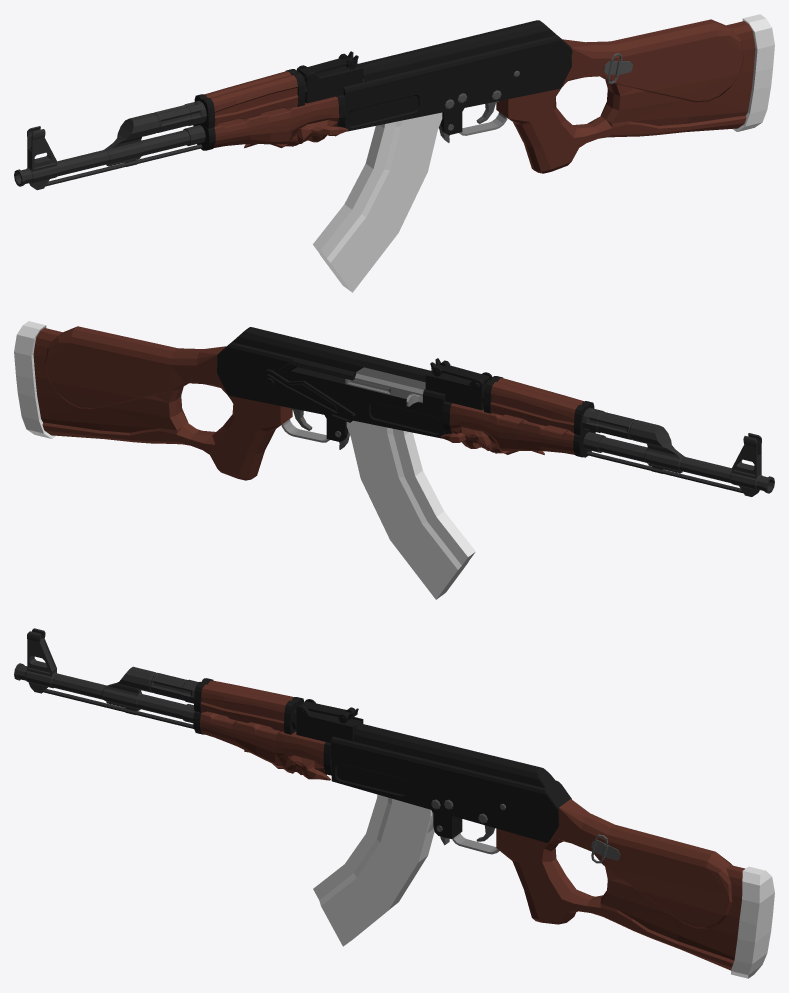
File: AKM.fbx
The picture shows the model from 3 angles, top to bottom: view 1: azimuth 30°, elevation 25°; view 2: azimuth 150°, elevation 25°; view 3: azimuth 330°, elevation 25°; orthographic projection.
Visible parts, largest first — view 1: Recienver, Magazine; view 2: Recienver, Magazine; view 3: Recienver, Magazine.
Boxes of the visible parts, x1,y1,x2,y2 form: Recienver: [14, 14, 774, 190]; Magazine: [313, 112, 442, 292]; Recienver: [14, 321, 774, 496]; Magazine: [346, 420, 475, 599]; Recienver: [14, 628, 774, 978]; Magazine: [313, 794, 434, 946].
Size of the model in its own units: 939 by 283 by 63.
